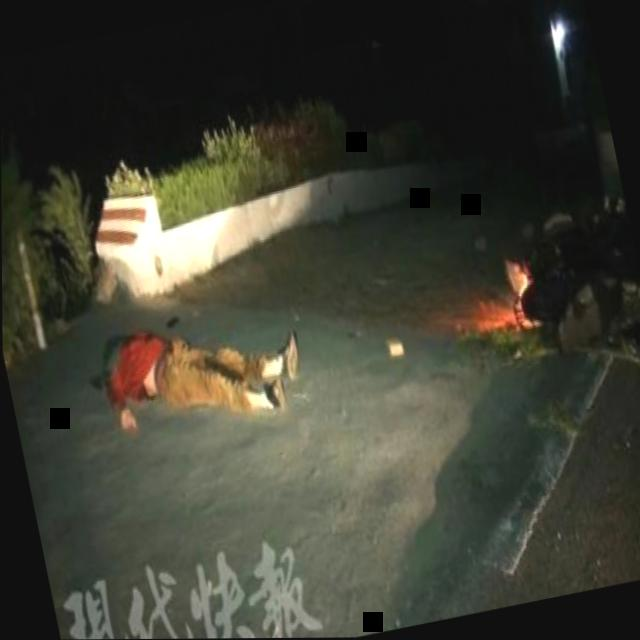Fall-Detected: (80, 278, 320, 449)
